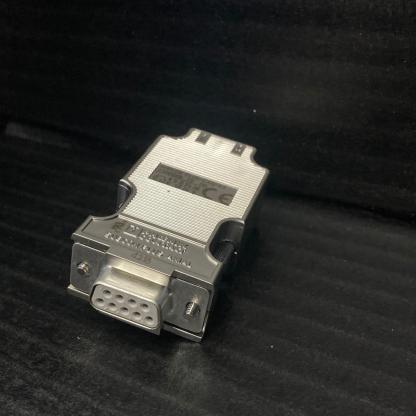SP0000010: (43, 92, 307, 353)
